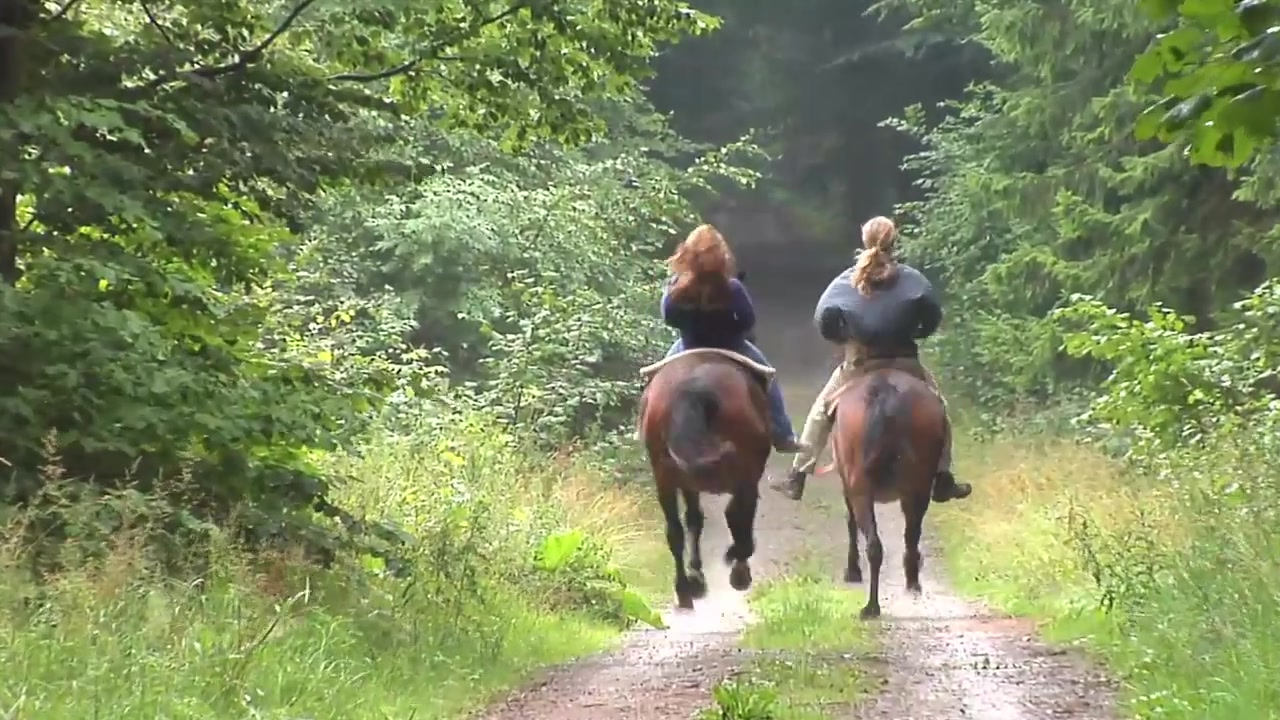horse: (640, 351, 776, 611)
